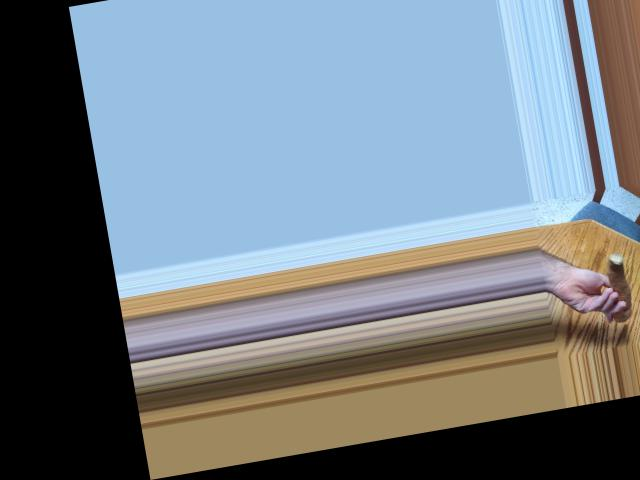sweet_potato: (596, 251, 636, 325)
